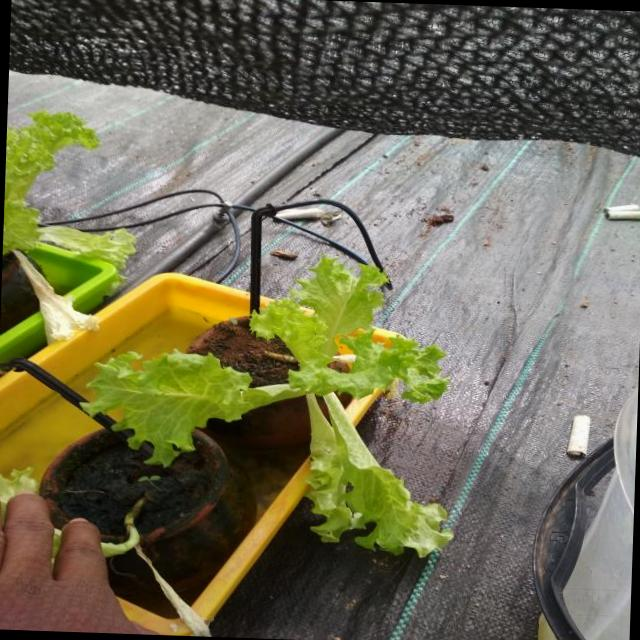Lettuce-Not-Ready-to-Harvest: (87, 256, 447, 553), (2, 110, 134, 267)
